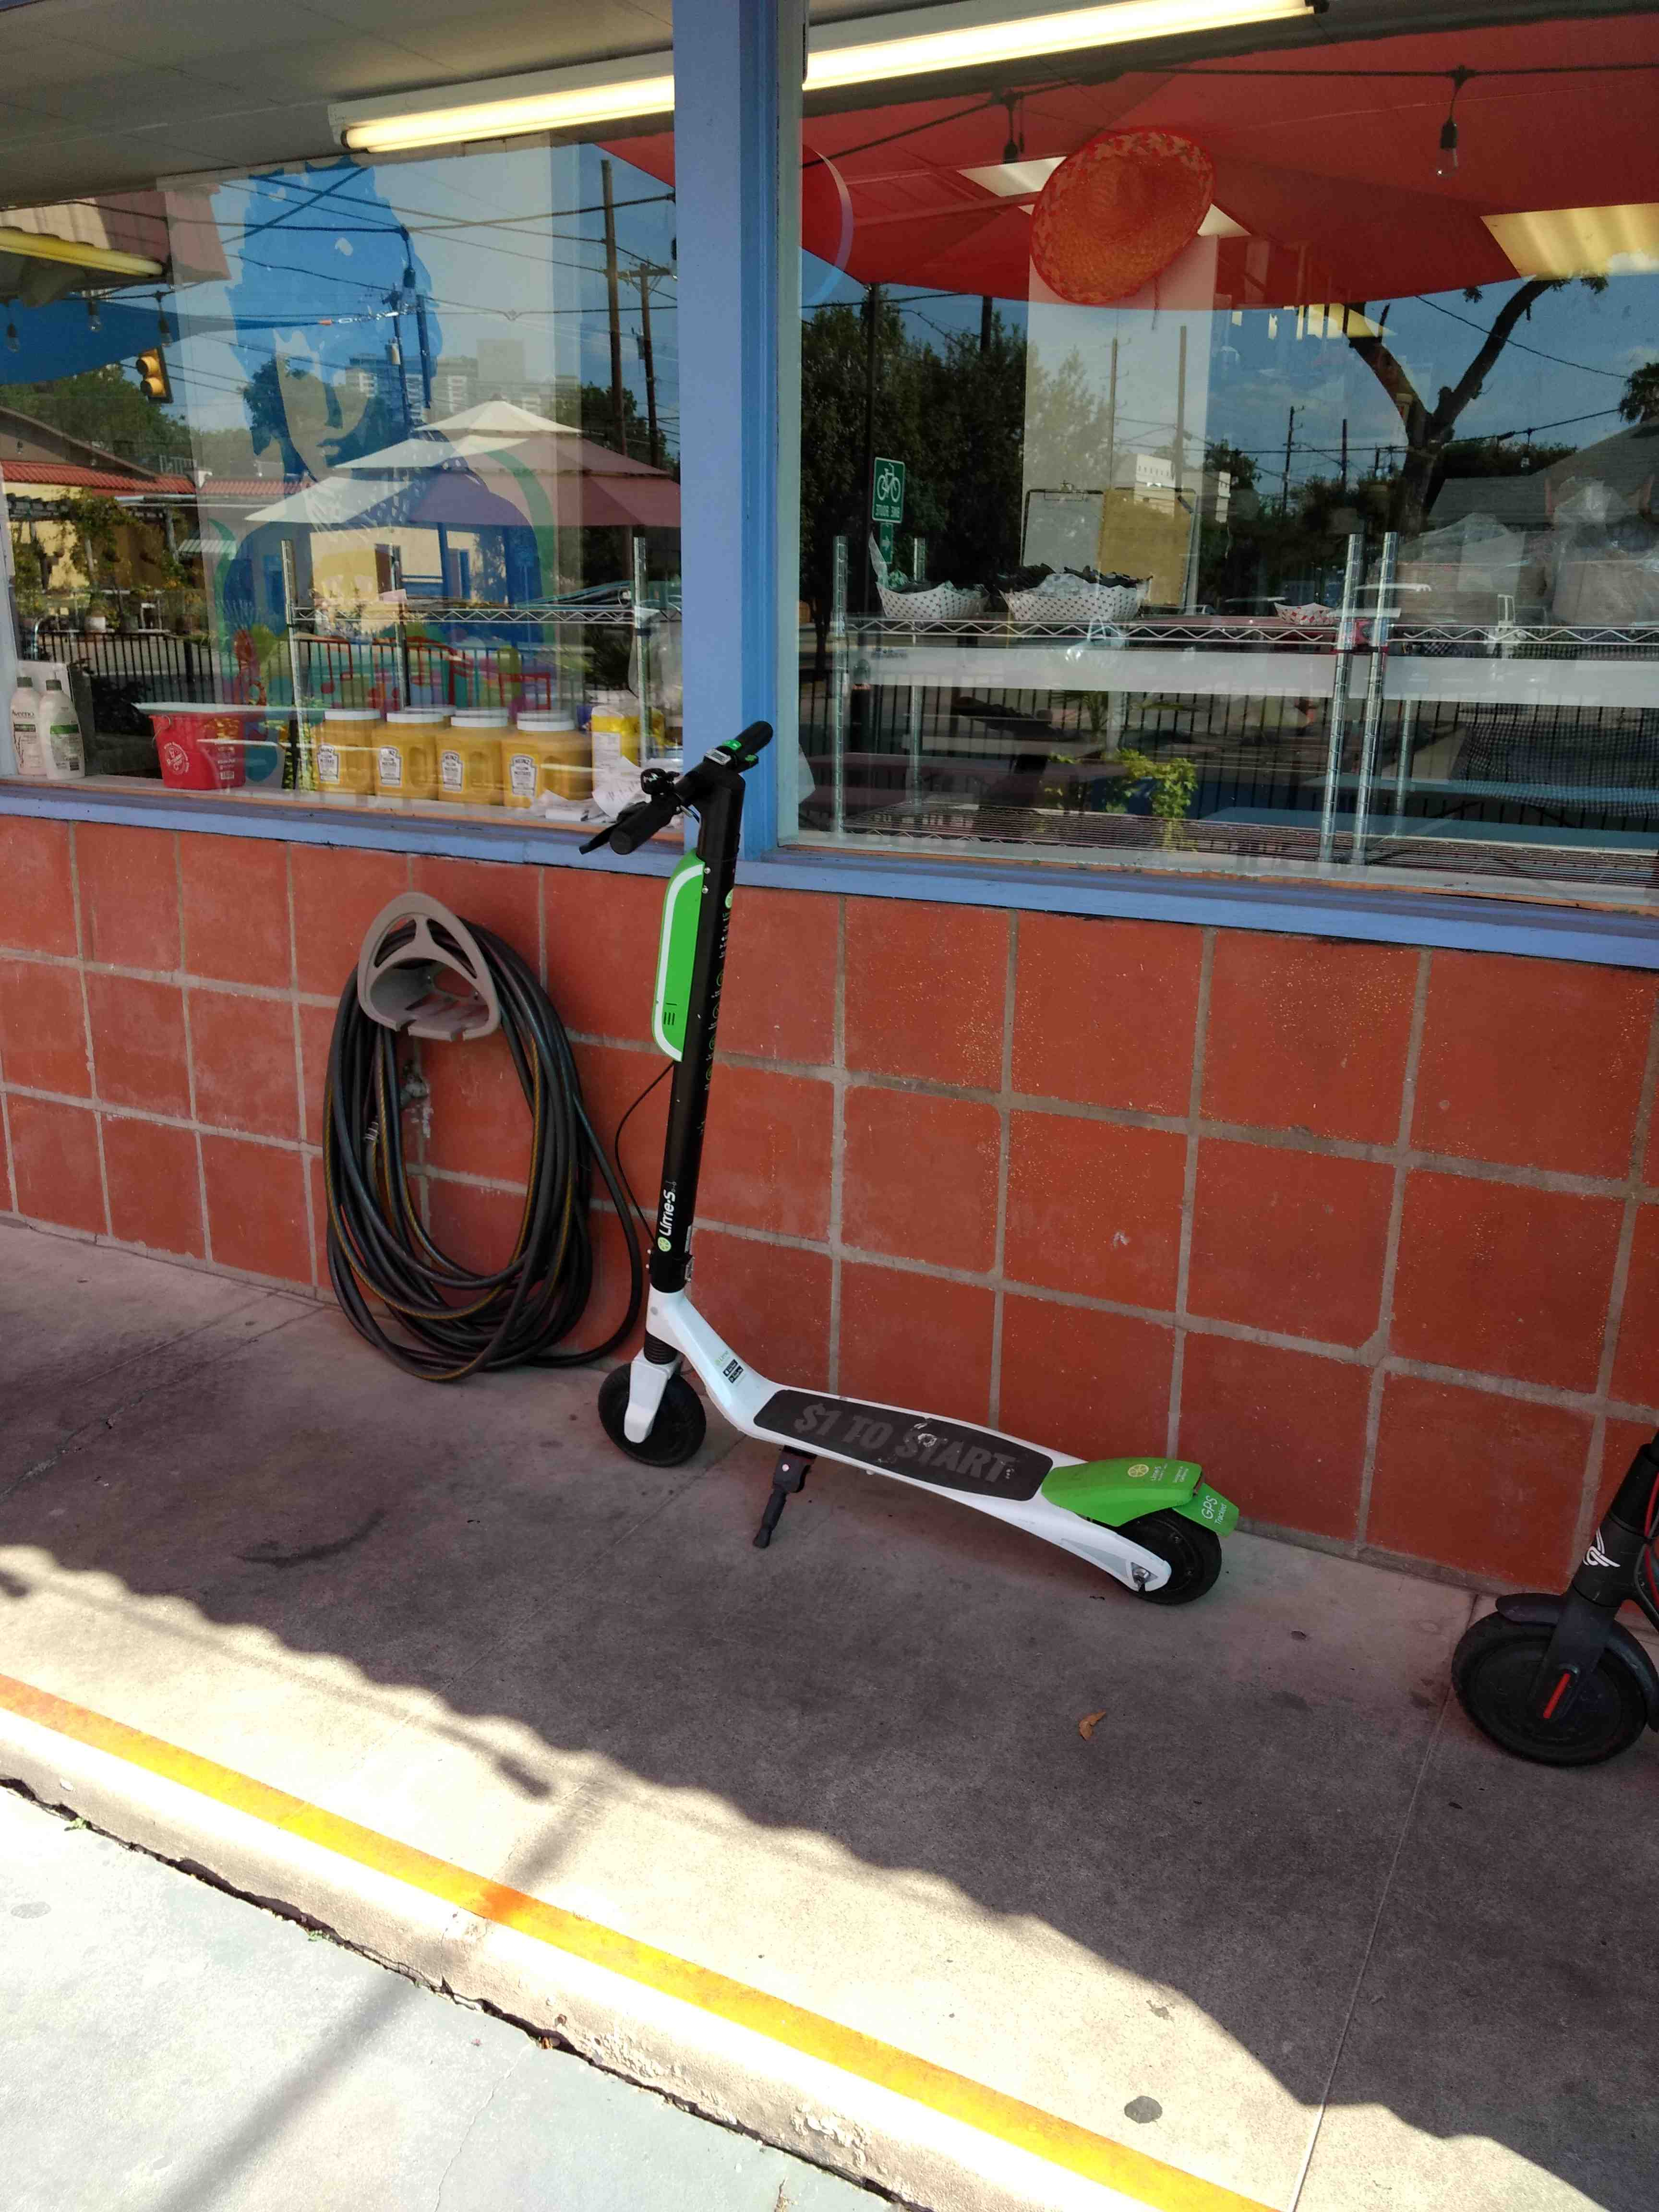scooter: (535, 732, 1248, 1651)
